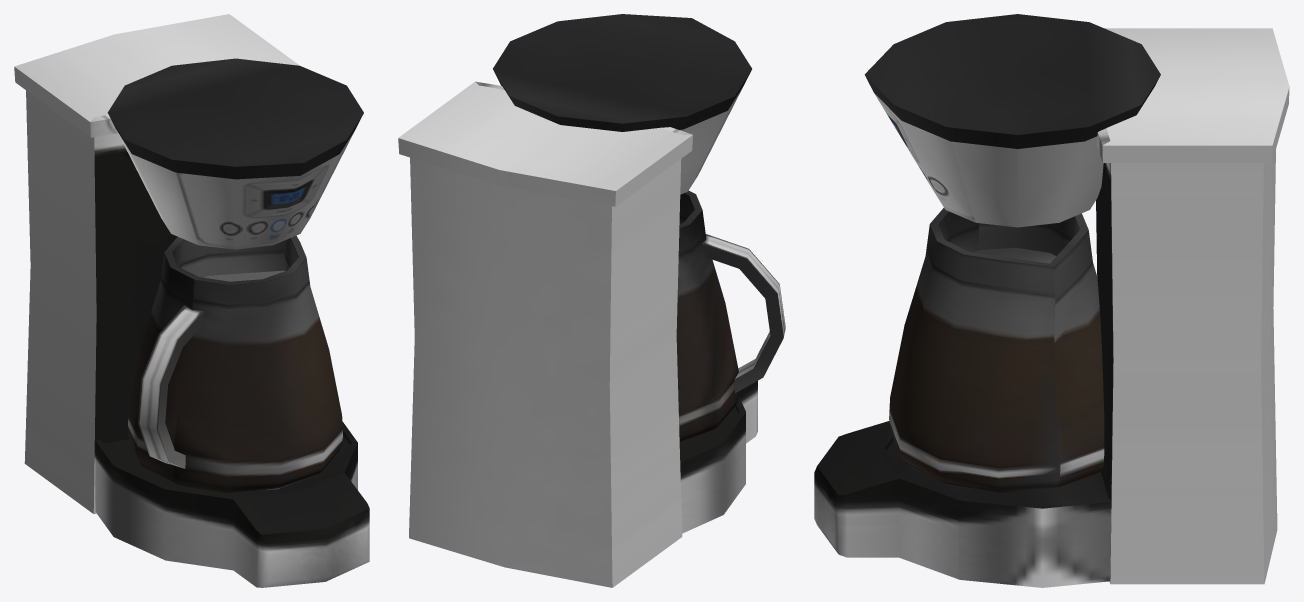
File: CoffeeMaker.FBX
3 views of the same model, side by side, from view 1: azimuth 30°, elevation 25°; view 2: azimuth 150°, elevation 25°; view 3: azimuth 270°, elevation 25° (orthographic). The views are drawn at different scales.
Visible parts, largest first — view 1: CoffeeMaker, CoffeePot001; view 2: CoffeeMaker, CoffeePot001; view 3: CoffeeMaker, CoffeePot001.
Boxes of the visible parts, x1,y1,x2,y2 form: CoffeeMaker: (14,14,369,587); CoffeePot001: (128,235,342,492); CoffeeMaker: (398,14,757,587); CoffeePot001: (676,190,785,441); CoffeeMaker: (814,14,1289,587); CoffeePot001: (889,208,1104,492).
Size of the model in its own units: 20.61 by 33.47 by 31.67.
